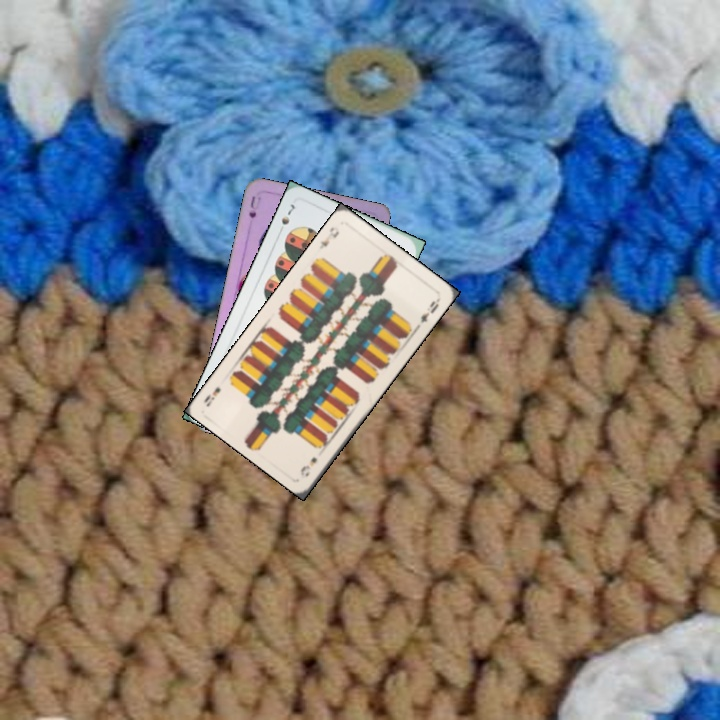E9: (315, 223, 342, 252), (296, 453, 320, 479)
S7: (274, 200, 298, 237)
SU: (245, 192, 263, 221)
